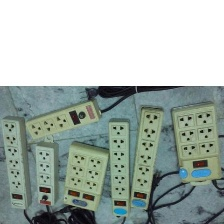three_eye_plug: (165, 99, 223, 187), (125, 104, 166, 212), (59, 139, 112, 214), (22, 94, 104, 142), (0, 114, 33, 214), (104, 117, 133, 219), (32, 140, 61, 207)
